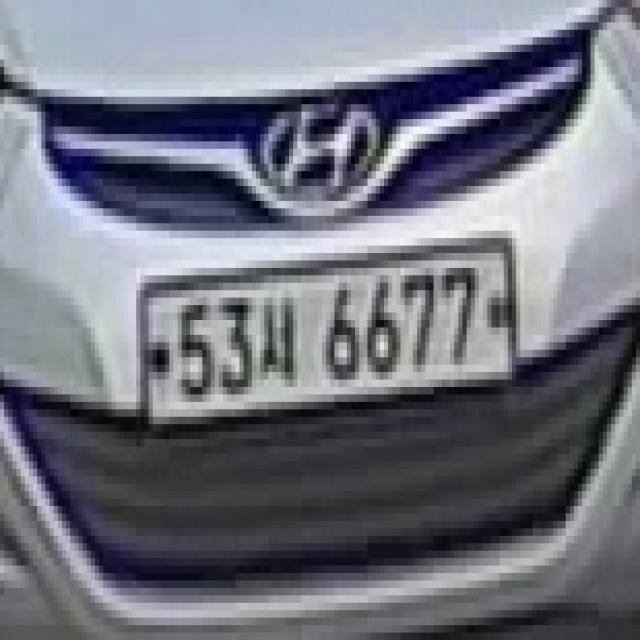3: (219, 283, 256, 394)
5: (182, 290, 219, 410)
6: (363, 260, 405, 394), (322, 268, 359, 387)
7: (392, 245, 442, 402), (434, 238, 483, 372)
license_plate: (132, 223, 525, 469)
seo: (252, 290, 301, 387)
